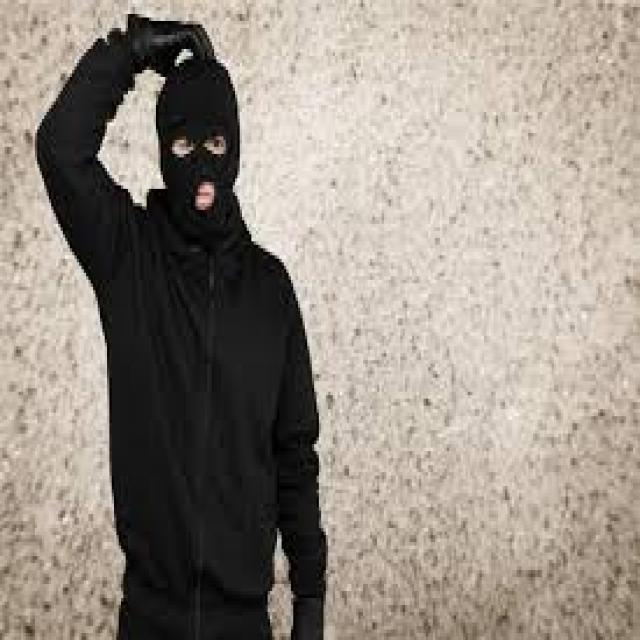person-with-mask: (24, 0, 370, 640)
